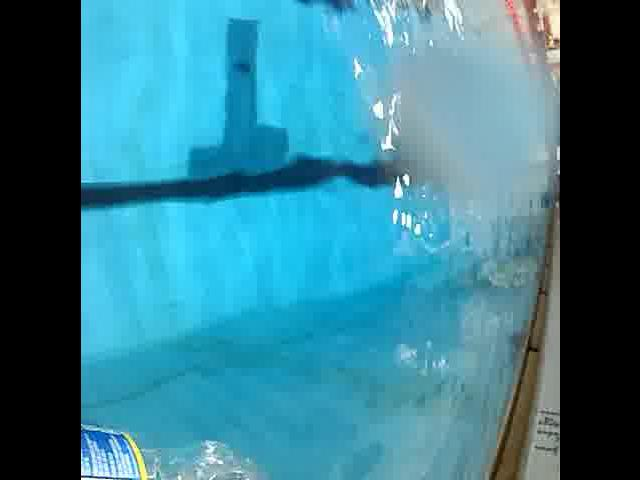Bottle: (80, 416, 276, 480)
